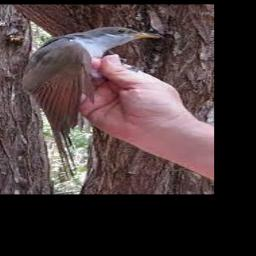Cuckoo: (22, 27, 162, 179)
